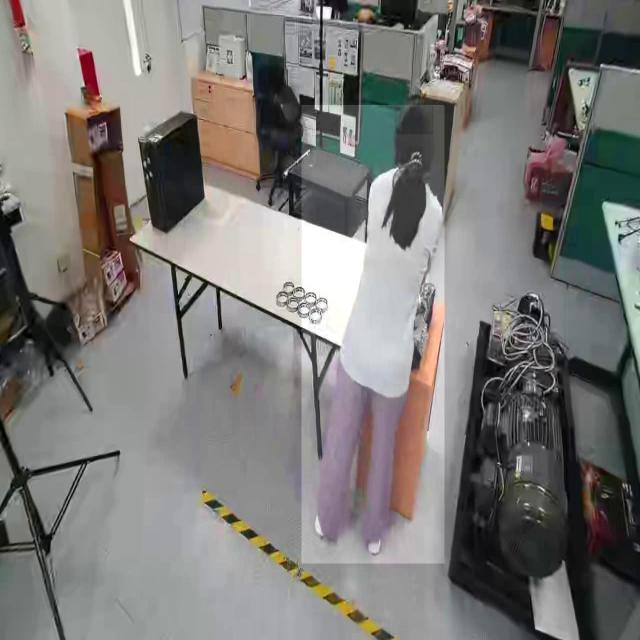head_nohelmet: (394, 105, 434, 135)
person: (301, 105, 445, 564)
shoes: (313, 495, 344, 543), (361, 511, 385, 555)
